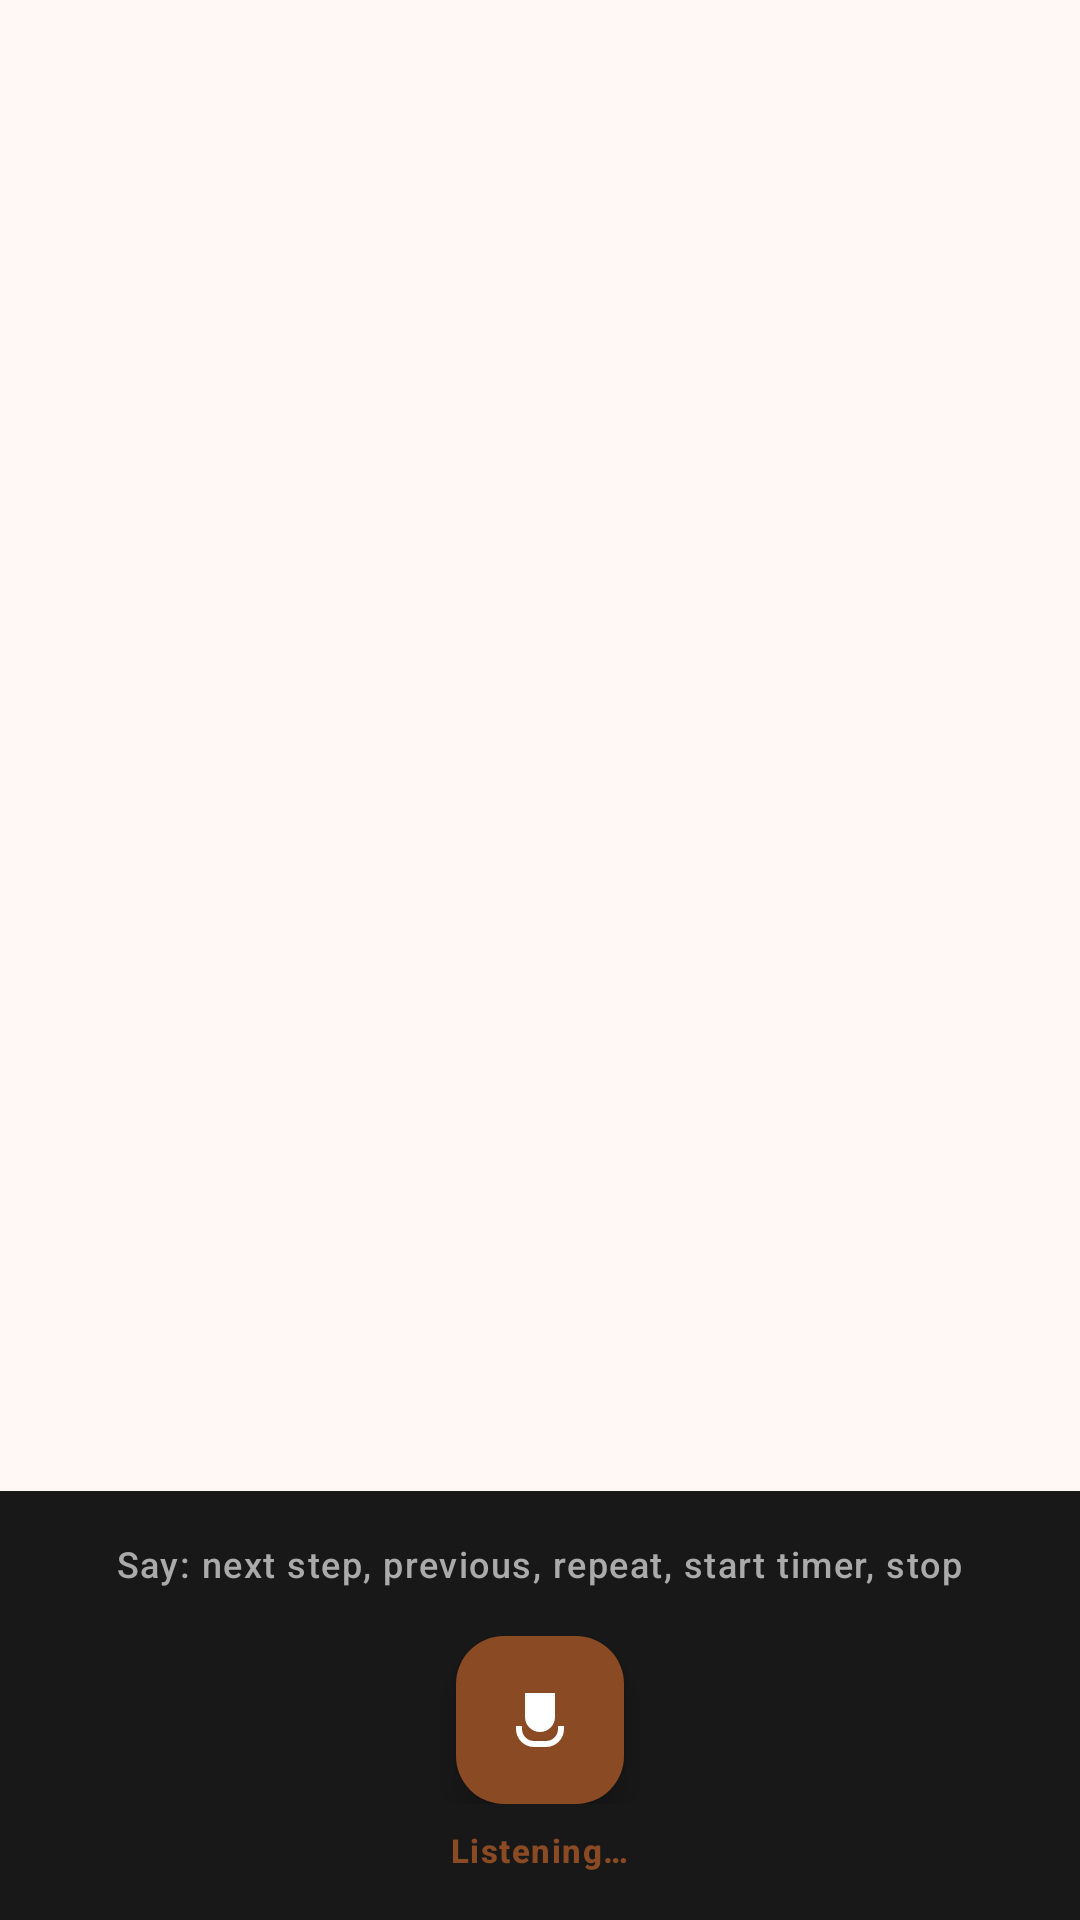

Point at icon controls on the screen. Image size 1080w x 1920h, points as point (x, y).
mic: point (540, 1720)
